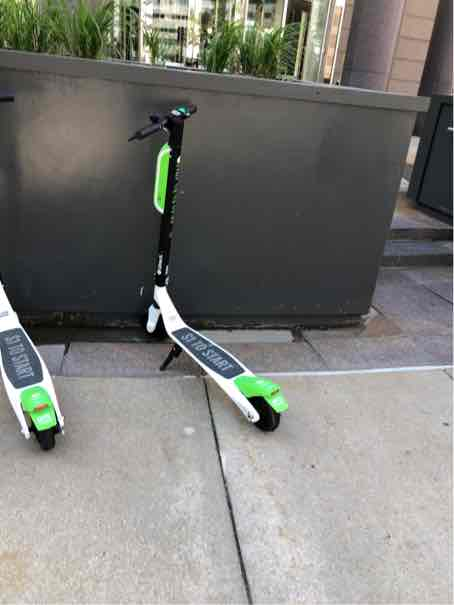scooter: (122, 90, 306, 430)
